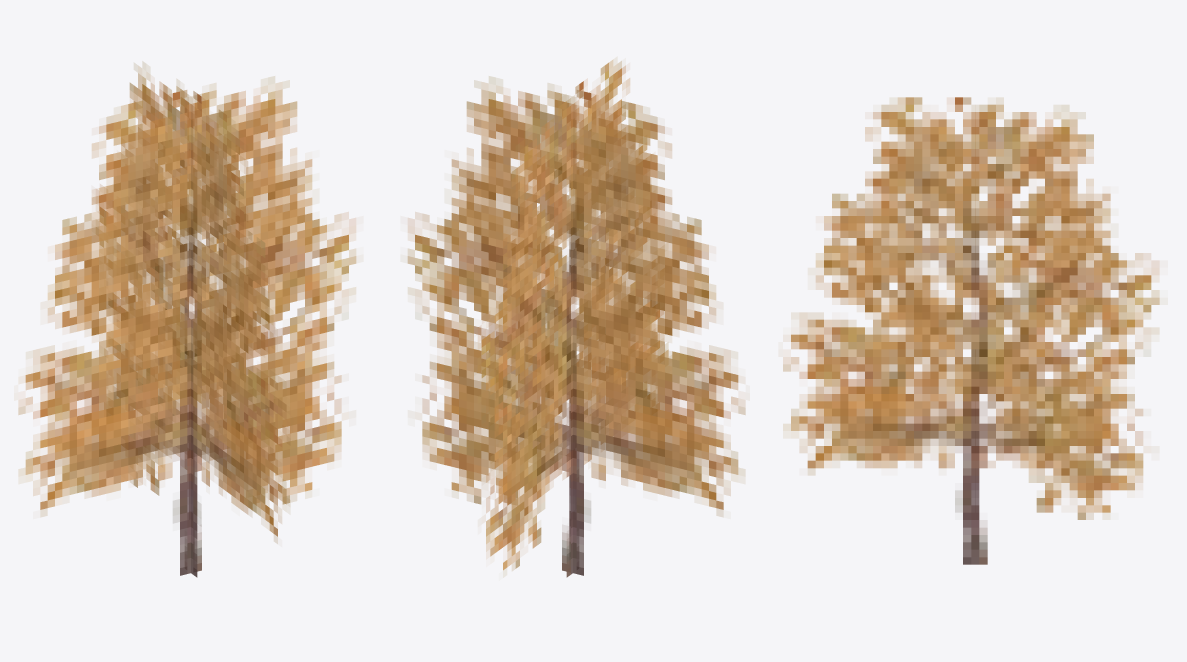
Rendered from kenney-retro-urban-tree-large.glb.
The picture shows the model from 3 angles, left to right: view 1: azimuth 30°, elevation 25°; view 2: azimuth 150°, elevation 25°; view 3: azimuth 270°, elevation 25°; orthographic projection. The views are drawn at different scales.
Visible parts, largest first — view 1: tree-large; view 2: tree-large; view 3: tree-large.
Part boxes in pixels (x1,y1,x2,y2): tree-large: (18,62,356,577); tree-large: (407,58,745,577); tree-large: (783,97,1159,564).
Bounding box in the file's own units: 1.3 × 1.7 × 1.3.
Materials: 1 (1 with a texture image).
